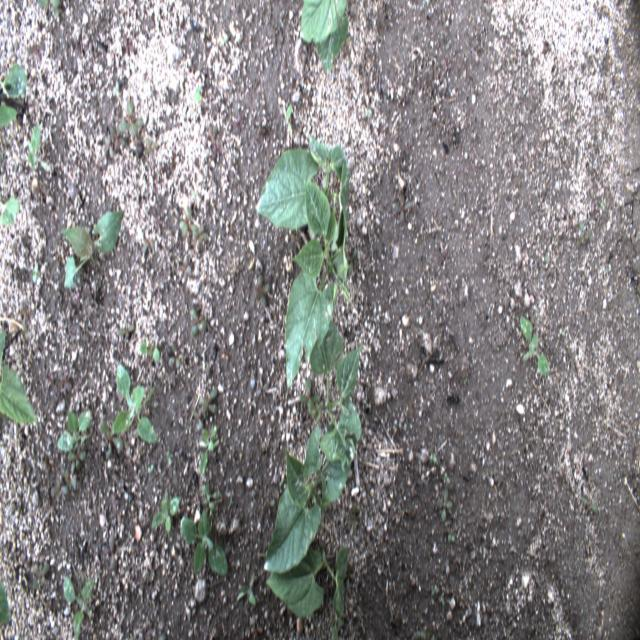crop: (285, 180, 352, 388), (263, 421, 350, 575), (255, 133, 350, 230), (308, 303, 363, 470), (266, 540, 350, 616), (300, 0, 348, 73), (0, 332, 38, 422), (0, 578, 11, 625)
weed: (61, 210, 125, 288), (114, 363, 158, 443), (180, 507, 229, 575), (64, 575, 95, 639), (520, 316, 550, 377), (57, 408, 95, 451), (149, 487, 182, 534), (198, 423, 220, 478), (27, 121, 51, 170), (99, 419, 125, 461), (117, 100, 145, 138), (0, 64, 27, 98), (299, 378, 322, 413), (236, 573, 256, 613), (394, 192, 416, 225), (178, 205, 198, 240), (252, 273, 272, 308), (0, 192, 19, 227), (67, 440, 87, 473), (59, 459, 78, 493), (31, 560, 51, 592), (108, 121, 128, 153), (436, 490, 454, 525), (36, 0, 61, 24), (202, 482, 222, 512), (190, 306, 208, 338), (25, 39, 46, 65), (200, 386, 219, 414), (137, 340, 159, 363), (329, 608, 344, 639), (168, 342, 185, 369), (198, 392, 218, 414), (178, 255, 193, 284), (346, 500, 358, 536), (341, 563, 355, 593), (192, 222, 210, 245), (50, 478, 69, 499), (0, 104, 18, 126), (144, 134, 158, 159), (578, 220, 593, 243), (118, 321, 136, 340), (104, 133, 117, 158), (140, 234, 156, 254), (284, 103, 294, 135), (415, 623, 434, 639), (122, 34, 136, 55), (256, 377, 270, 398), (581, 495, 597, 511), (193, 406, 203, 430), (344, 42, 354, 65), (153, 212, 164, 231), (20, 322, 31, 339), (208, 124, 217, 144), (21, 301, 31, 318), (212, 142, 222, 158), (146, 462, 156, 477), (32, 264, 40, 282), (443, 471, 451, 487), (112, 80, 120, 94), (346, 78, 351, 100), (444, 38, 452, 51), (166, 450, 172, 467), (431, 584, 438, 598), (428, 454, 438, 463), (447, 534, 455, 543), (278, 477, 284, 488), (600, 201, 606, 210), (365, 110, 372, 114)
